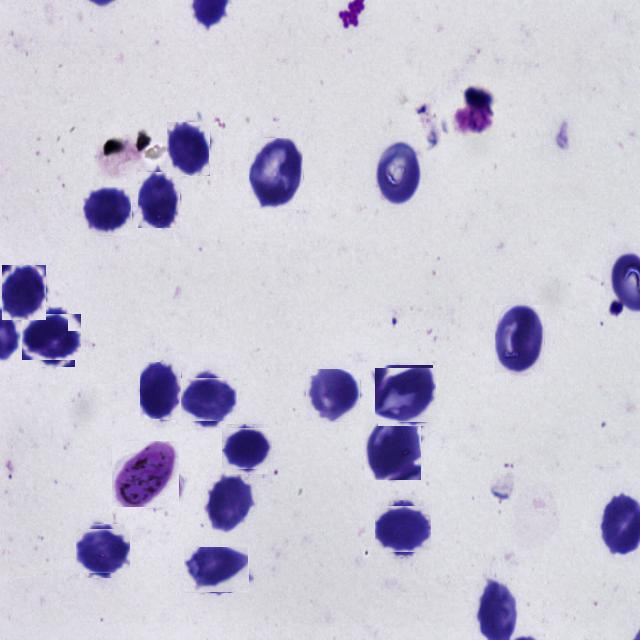gametocyte: (112, 441, 179, 508)
red blood cell: (249, 138, 303, 209), (365, 413, 421, 480), (376, 366, 434, 424), (495, 305, 544, 373), (184, 546, 249, 592), (306, 368, 360, 422), (26, 311, 78, 364), (205, 474, 252, 532), (376, 144, 420, 204), (378, 502, 428, 554), (183, 374, 233, 424), (78, 526, 128, 576), (140, 362, 182, 420), (2, 265, 46, 320), (83, 187, 132, 236), (138, 172, 180, 228), (167, 122, 210, 176), (224, 426, 270, 472)
